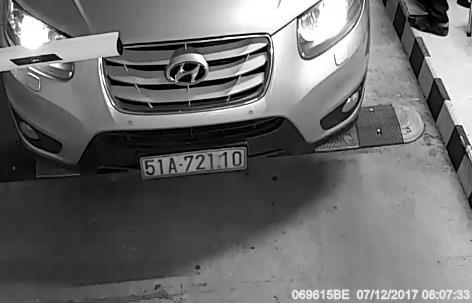License-plate: (121, 141, 266, 186)
